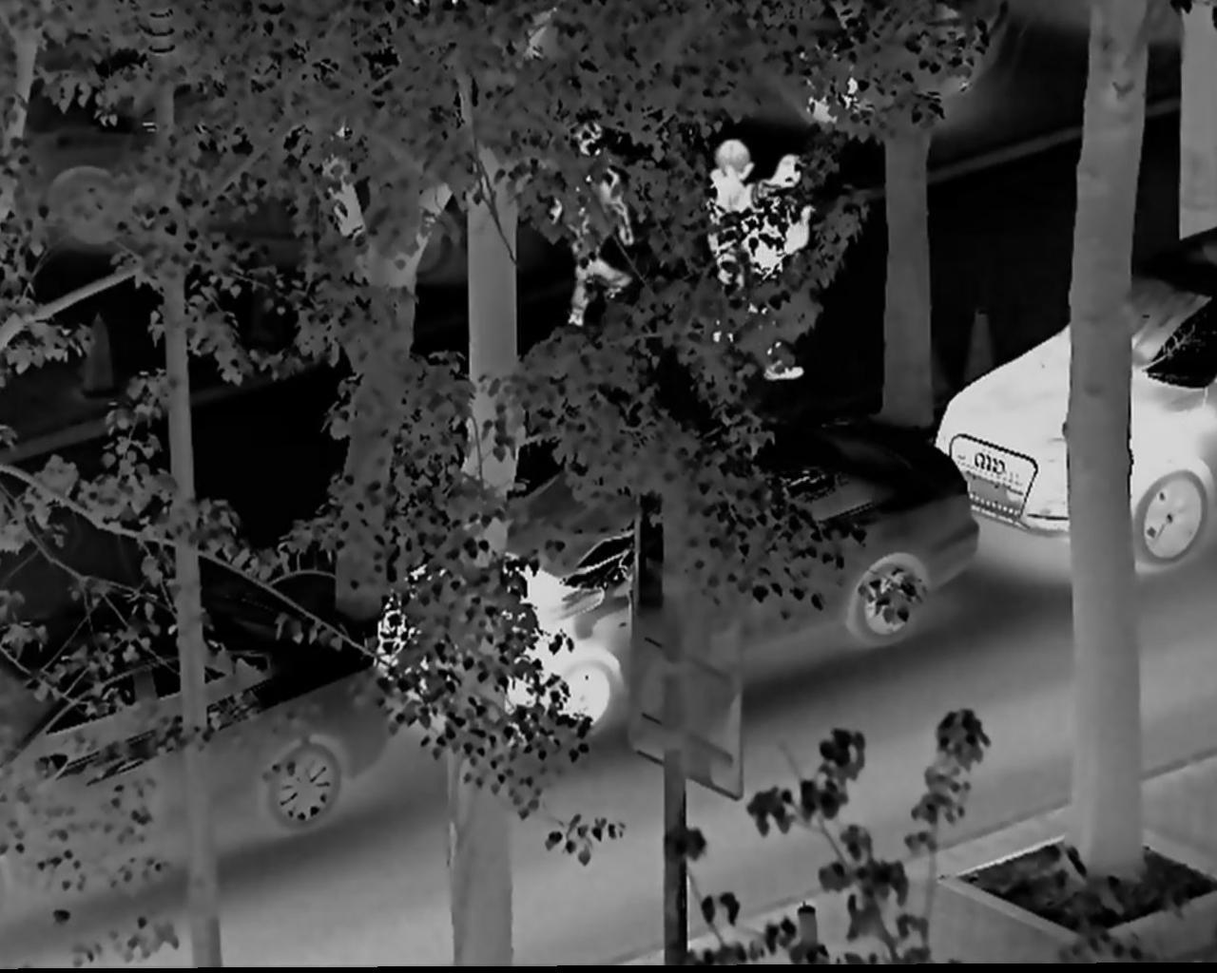person: (744, 153, 813, 380), (564, 122, 638, 330), (706, 139, 755, 335)
